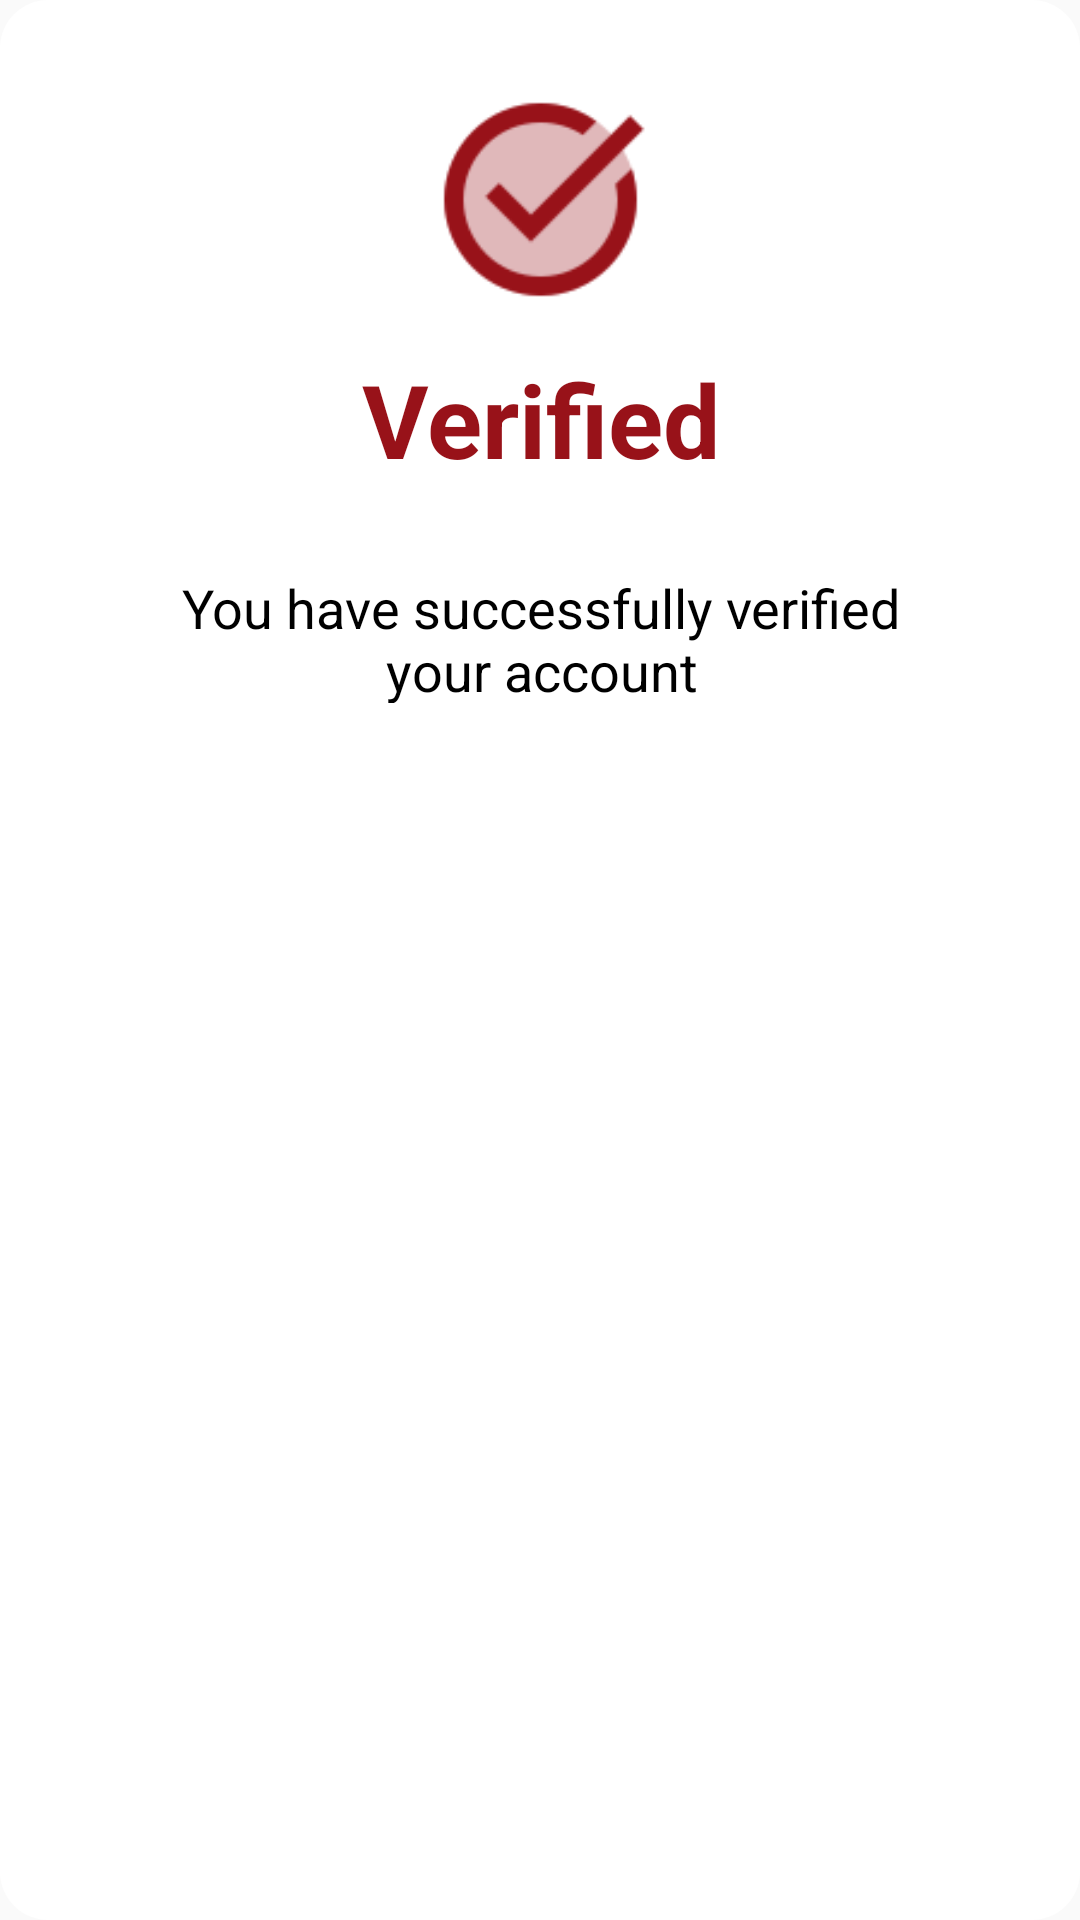

Where to tap for icons on this 1080px x 1920px app screen, as (x,y):
iconscheckmark: (544,199)
